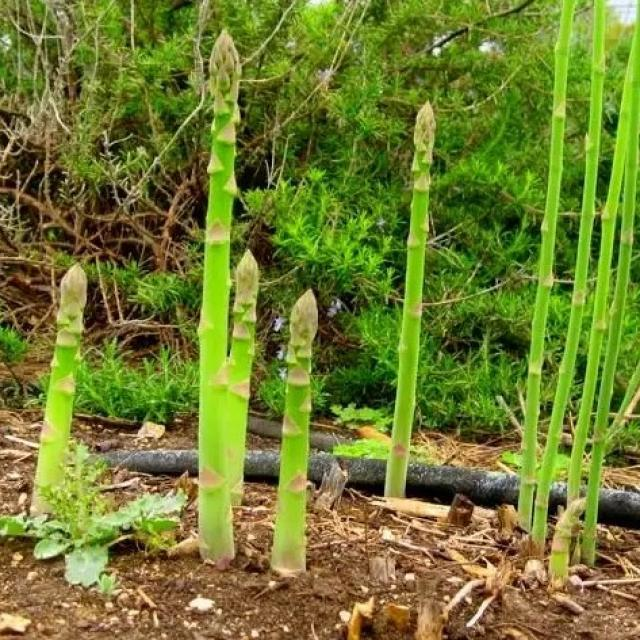aspargus: (190, 33, 242, 553), (388, 104, 435, 498), (272, 291, 318, 576), (34, 264, 87, 511)
